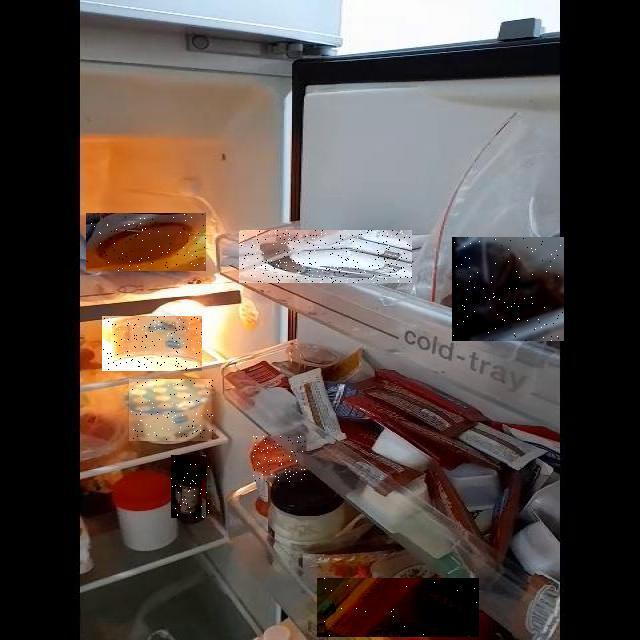Butter: (318, 578, 482, 637)
Chocolate: (239, 230, 412, 283)
Dates: (452, 237, 564, 341)
Sauce: (172, 455, 210, 518), (254, 436, 306, 482)
Sausages: (86, 213, 206, 271)
Yoghurt: (103, 316, 203, 371), (130, 379, 214, 441)
